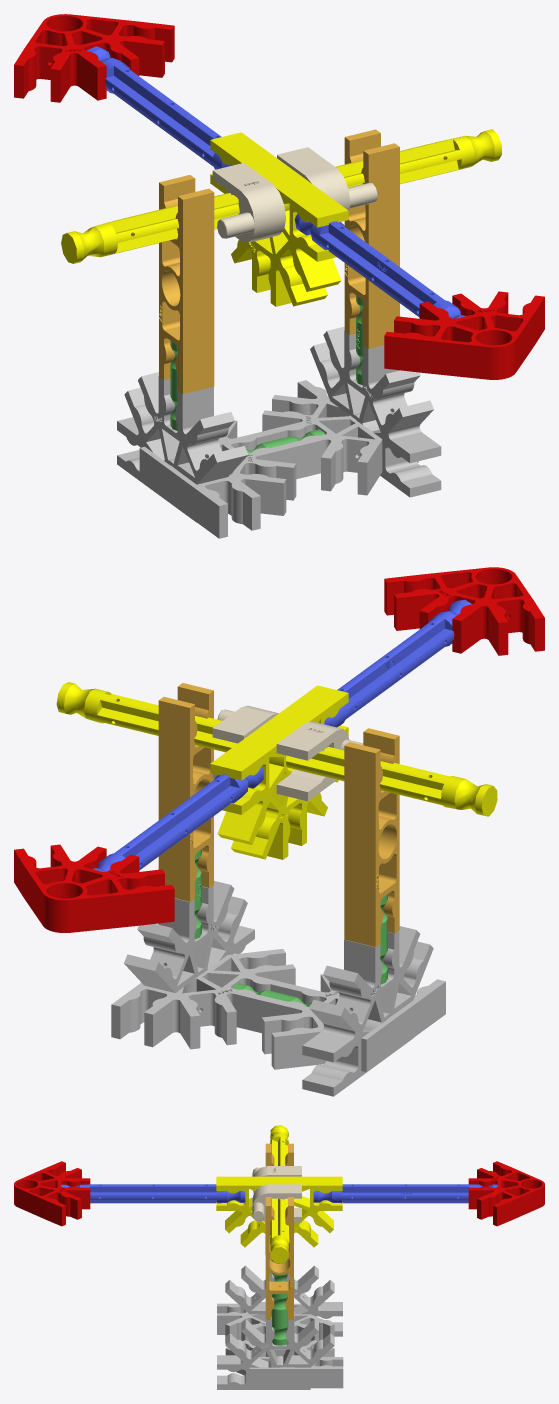
The model's file is Swing.glb.
The picture shows the model from 3 angles, top to bottom: view 1: azimuth 30°, elevation 25°; view 2: azimuth 150°, elevation 25°; view 3: azimuth 270°, elevation 25°; orthographic projection. The views are drawn at different scales.
Visible parts, largest first — view 1: Sube_baja; view 2: Sube_baja; view 3: Sube_baja.
Boxes of the visible parts, left/top/right/bottom form: Sube_baja: left=14, top=14, right=544, bottom=538; Sube_baja: left=14, top=567, right=544, bottom=1096; Sube_baja: left=14, top=1125, right=544, bottom=1389.
Size of the model in its own units: 5.71 by 4.01 by 10.5.
